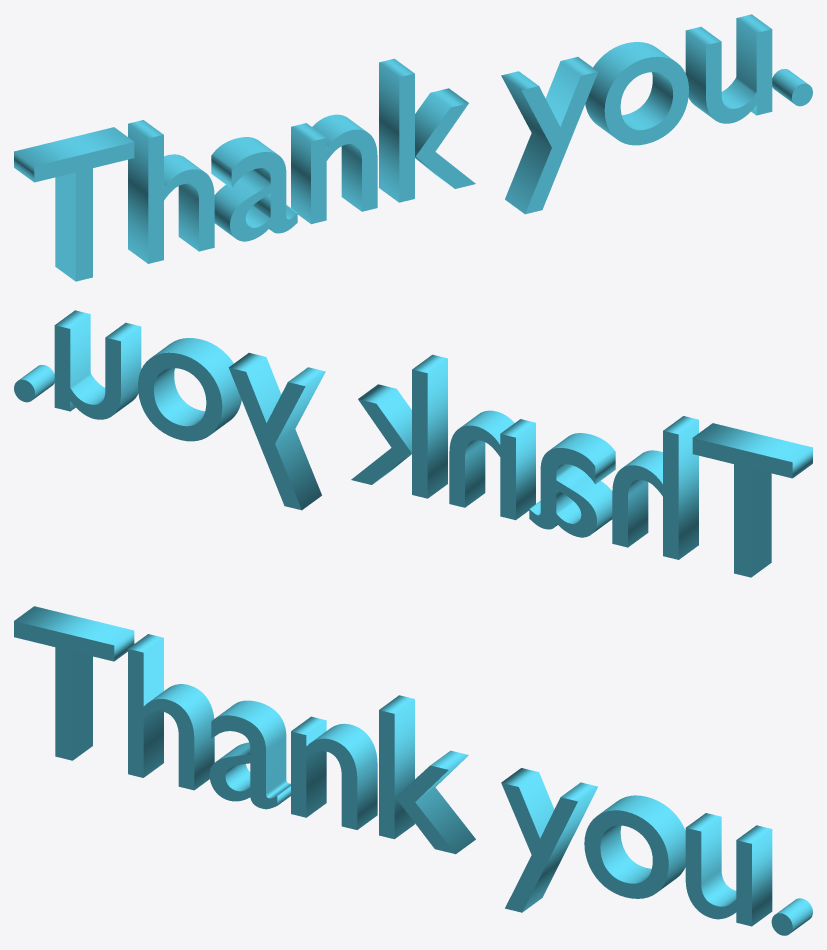
File: console_game_over_003.fbx
3 views of the same model, one above another, from view 1: azimuth 30°, elevation 25°; view 2: azimuth 150°, elevation 25°; view 3: azimuth 330°, elevation 25° (orthographic).
Parts seen in each view (by area): view 1: Txt_Test_01.030; view 2: Txt_Test_01.030; view 3: Txt_Test_01.030.
Boxes of the visible parts, <box> form: Txt_Test_01.030: <box>14,14,812,281</box>; Txt_Test_01.030: <box>14,310,812,577</box>; Txt_Test_01.030: <box>14,606,812,935</box>.
Size of the model in its own units: 0.5975 by 0.123 by 0.027.
